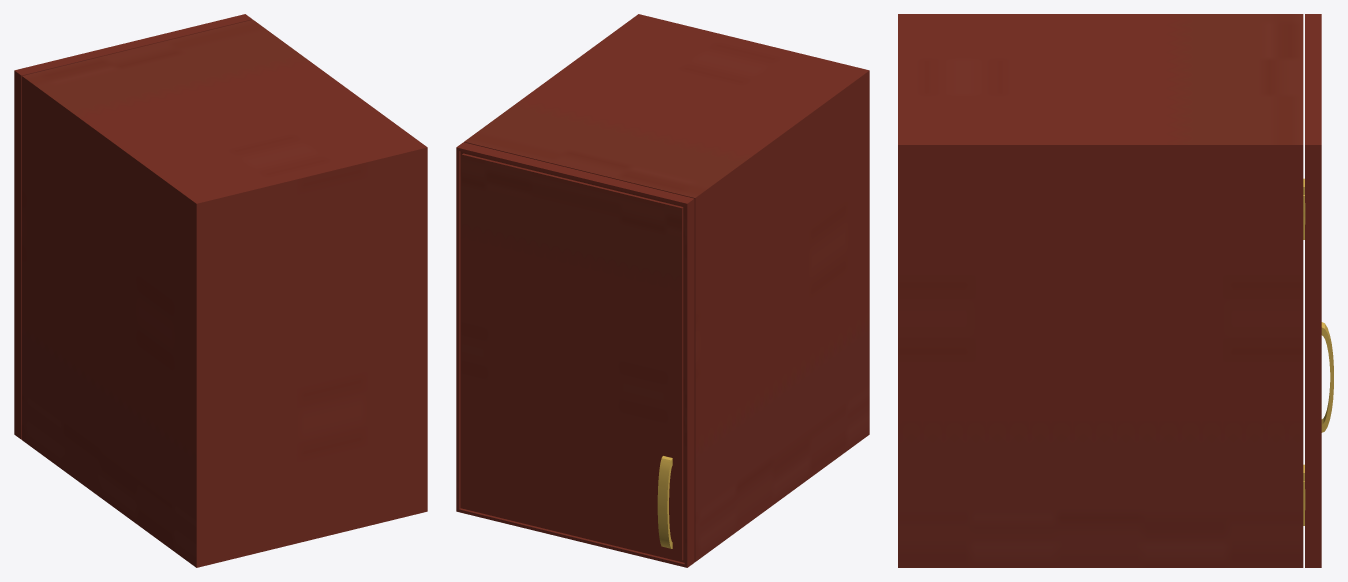
The model's file is CabinetF06.glb.
3 views of the same model, side by side, from view 1: azimuth 30°, elevation 25°; view 2: azimuth 150°, elevation 25°; view 3: azimuth 270°, elevation 25° (orthographic). The views are drawn at different scales.
Visible parts, largest first — view 1: CabinetF06_model, CabinetF06Door; view 2: CabinetF06_model, CabinetF06Door; view 3: CabinetF06_model, CabinetF06Door.
Boxes of the visible parts, <box> form: CabinetF06_model: <box>22,20,427,567</box>; CabinetF06Door: <box>14,14,252,439</box>; CabinetF06_model: <box>464,14,869,561</box>; CabinetF06Door: <box>456,142,694,567</box>; CabinetF06_model: <box>898,14,1304,567</box>; CabinetF06Door: <box>1303,14,1333,567</box>.
Bounding box in the file's own units: 0.9256 × 1.39 × 1.29.
Materials: 1 (1 with a texture image).
